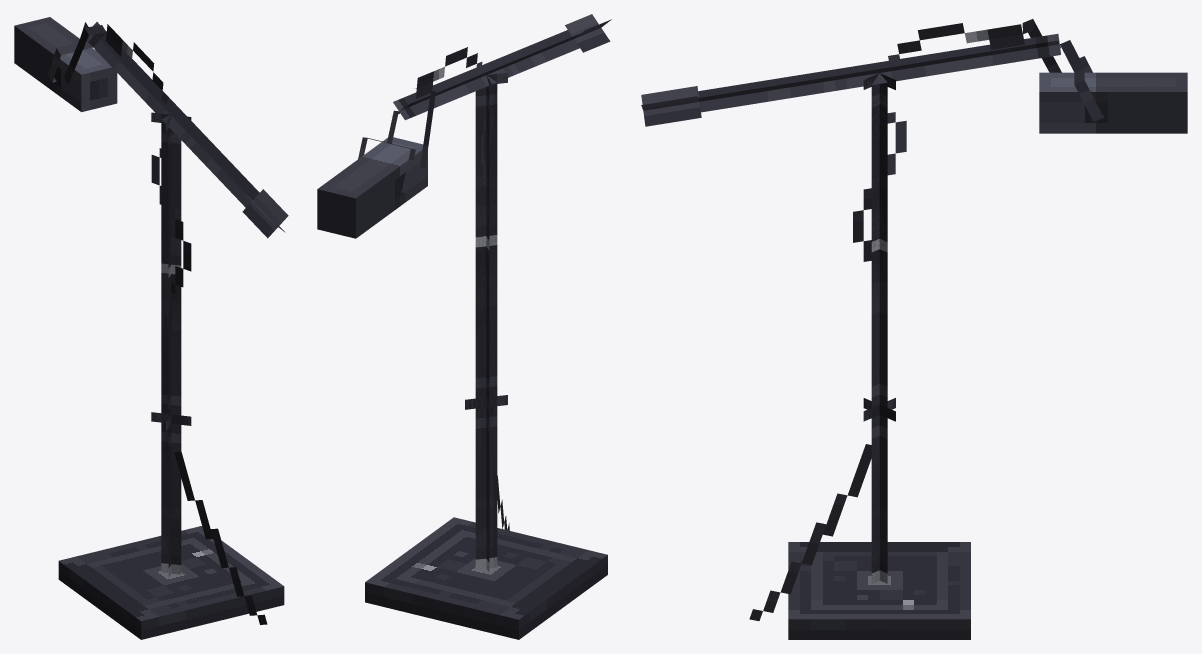
The model's file is microphone_stand_stage_round_boom_0.obj.
The picture shows the model from 3 angles, left to right: view 1: azimuth 30°, elevation 25°; view 2: azimuth 150°, elevation 25°; view 3: azimuth 270°, elevation 25°; orthographic projection. The views are drawn at different scales.
Parts seen in each view (by area): view 1: cube, fixed_base, blur_bm7b, cable; view 2: fixed_base, cube, blur_bm7b, cable; view 3: cube, fixed_base, blur_bm7b, cable.
Part boxes in pixels (x1=…): cube: x1=47, y1=22, x2=288, y2=577; fixed_base: x1=58, y1=526, x2=284, y2=639; blur_bm7b: x1=14, y1=17, x2=117, y2=112; cable: x1=64, y1=24, x2=267, y2=624; fixed_base: x1=365, y1=517, x2=607, y2=639; cube: x1=358, y1=14, x2=611, y2=572; blur_bm7b: x1=317, y1=137, x2=427, y2=238; cable: x1=415, y1=47, x2=509, y2=530; cube: x1=641, y1=33, x2=1103, y2=583; fixed_base: x1=788, y1=542, x2=970, y2=639; blur_bm7b: x1=1039, y1=72, x2=1187, y2=133; cable: x1=749, y1=19, x2=1061, y2=620.
Size of the model in its own units: 0.5 by 1.83 by 1.49.
